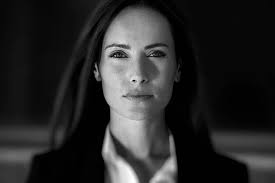white_female: (104, 19, 175, 120)
